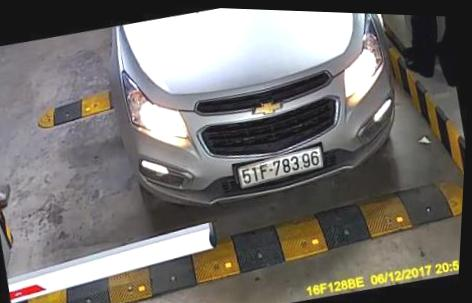License_Plate: (237, 144, 332, 202)
